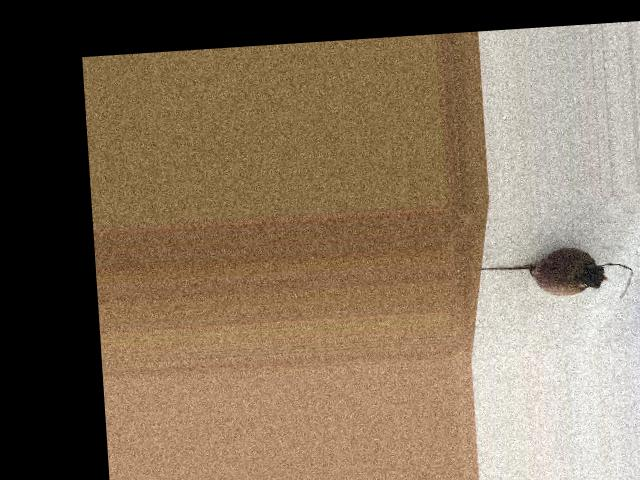beet: (476, 243, 633, 307)
